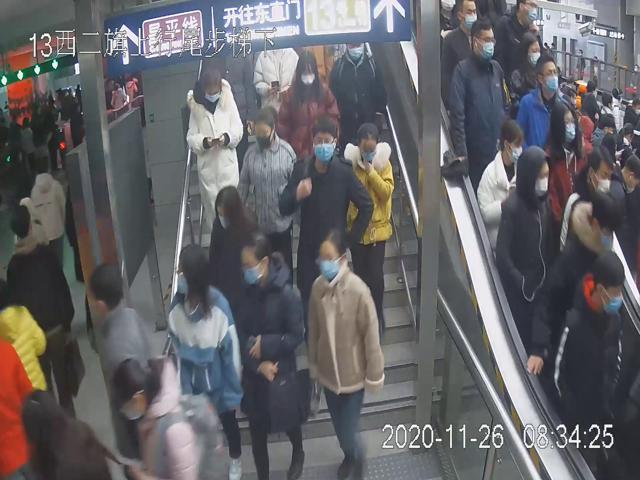person: (307, 224, 385, 480), (166, 242, 242, 475), (236, 228, 306, 480), (277, 114, 375, 284), (338, 120, 395, 345), (235, 105, 301, 290), (448, 14, 510, 177), (185, 60, 243, 232), (474, 119, 533, 256), (274, 47, 340, 150), (209, 183, 257, 303)
